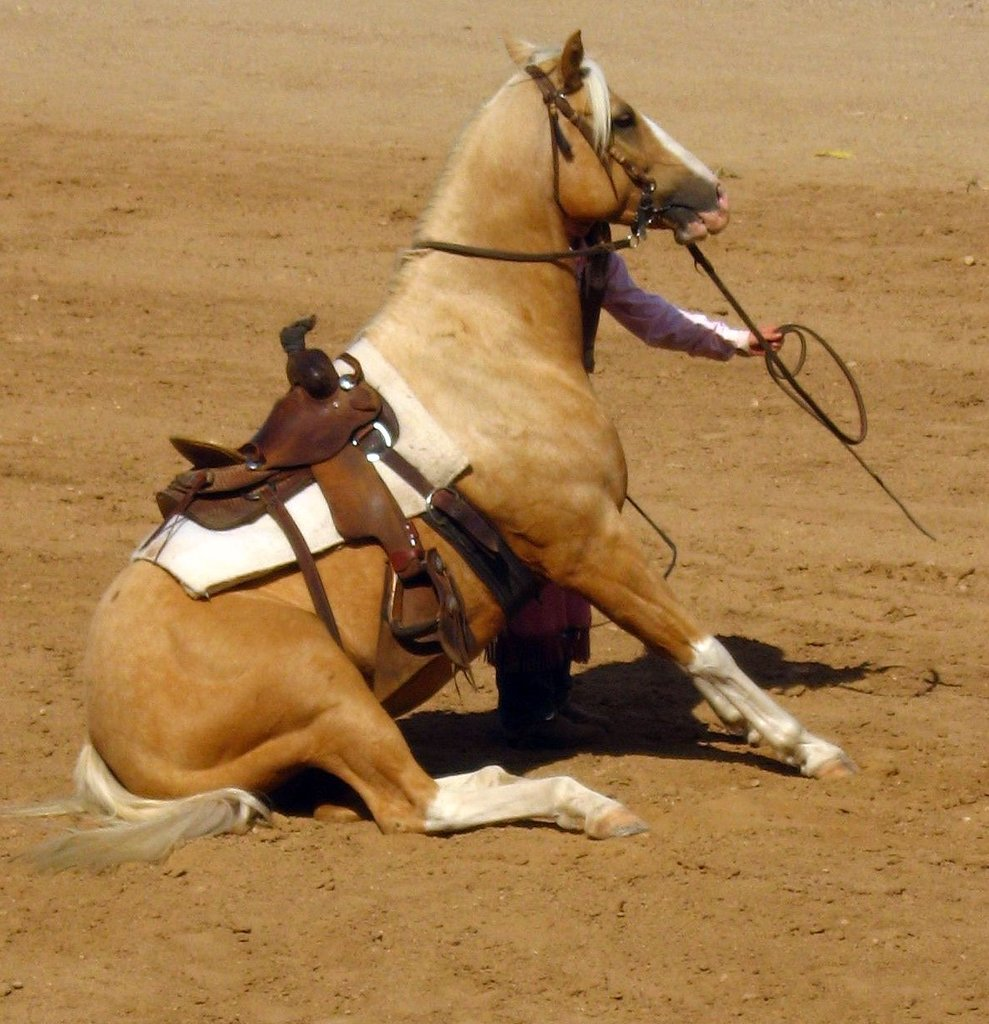Person: (486, 223, 785, 736)
